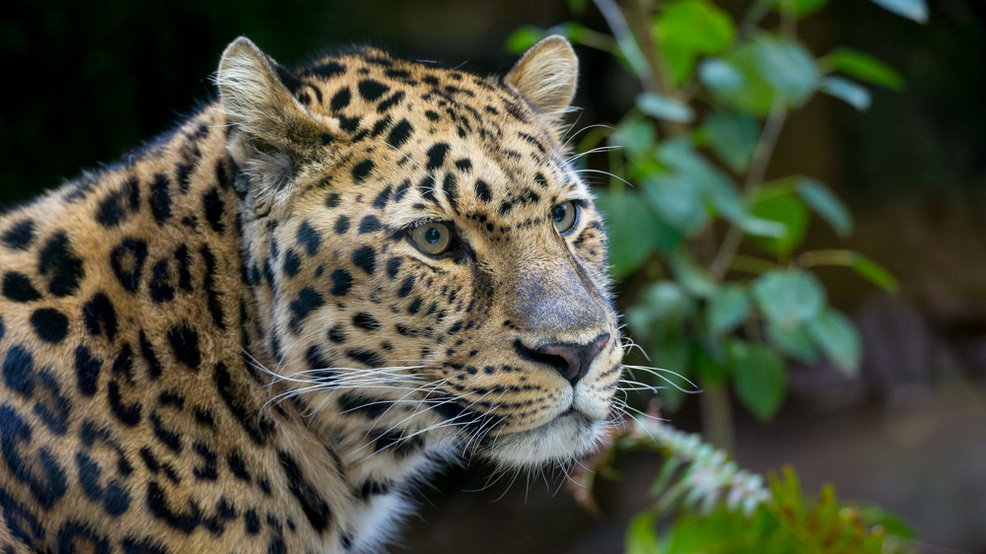amur_leopard: (13, 15, 663, 554)
